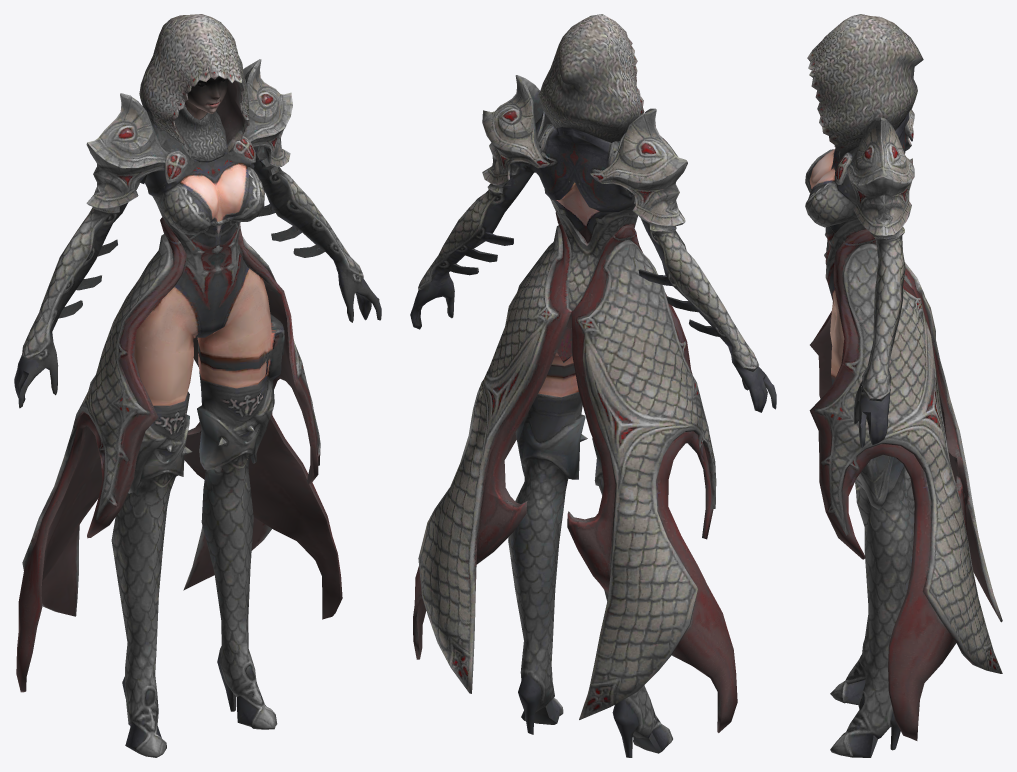
File: Underworld.glb
3 renders of one model, left to right at view 1: azimuth 30°, elevation 25°; view 2: azimuth 150°, elevation 25°; view 3: azimuth 270°, elevation 25°, orthographic.
Parts seen in each view (by area): view 1: PC_Leaderarmor_T4_W(body_low)_0, PC_Leaderarmor_T4_W(head_low)_0, PC_Leaderarmor_T4_W(PC_Swordwoman_Head)_0; view 2: PC_Leaderarmor_T4_W(body_low)_0, PC_Leaderarmor_T4_W(head_low)_0; view 3: PC_Leaderarmor_T4_W(body_low)_0, PC_Leaderarmor_T4_W(head_low)_0.
Part boxes in pixels (x1=…): PC_Leaderarmor_T4_W(body_low)_0: x1=14, y1=59, x2=381, y2=757; PC_Leaderarmor_T4_W(head_low)_0: x1=139, y1=14, x2=249, y2=157; PC_Leaderarmor_T4_W(PC_Swordwoman_Head)_0: x1=185, y1=76, x2=228, y2=119; PC_Leaderarmor_T4_W(body_low)_0: x1=410, y1=75, x2=776, y2=757; PC_Leaderarmor_T4_W(head_low)_0: x1=538, y1=14, x2=644, y2=142; PC_Leaderarmor_T4_W(body_low)_0: x1=805, y1=109, x2=1002, y2=757; PC_Leaderarmor_T4_W(head_low)_0: x1=807, y1=14, x2=923, y2=158.
Size of the model in its own units: 0.0101 by 0.0191 by 0.00482.
Materials: 3 (3 with a texture image).
